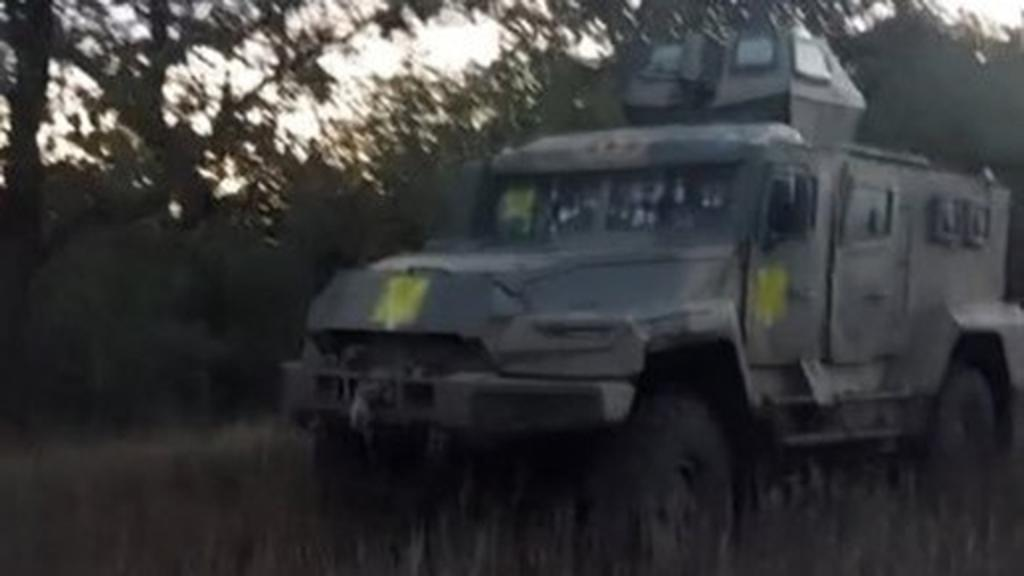CAR: (288, 14, 1012, 558)
